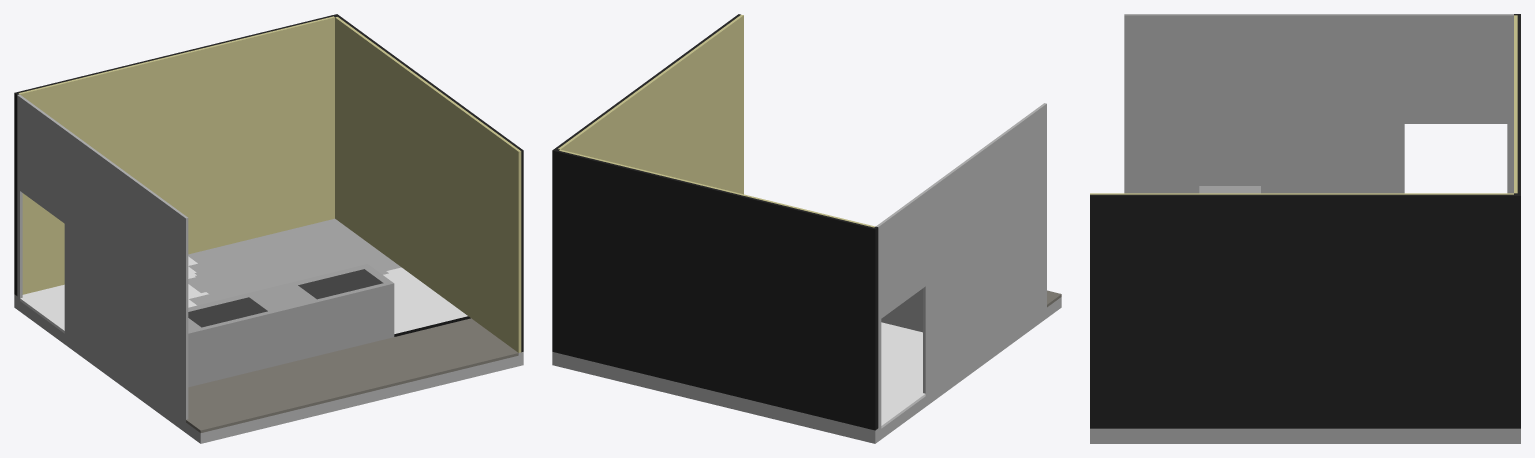
The model's file is 2x2 first (1)-2.obj.
3 renders of one model, left to right at view 1: azimuth 30°, elevation 25°; view 2: azimuth 150°, elevation 25°; view 3: azimuth 270°, elevation 25°, orthographic. The views are drawn at different scales.
Visible parts, largest first — view 1: 2x2 first (1)-2; view 2: 2x2 first (1)-2; view 3: 2x2 first (1)-2.
Boxes of the visible parts, x1=… form: 2x2 first (1)-2: x1=14, y1=14, x2=523, y2=443; 2x2 first (1)-2: x1=552, y1=14, x2=1061, y2=443; 2x2 first (1)-2: x1=1090, y1=14, x2=1520, y2=443.
Size of the model in its own units: 126 by 80 by 126.
Materials: 1 (1 with a texture image).
